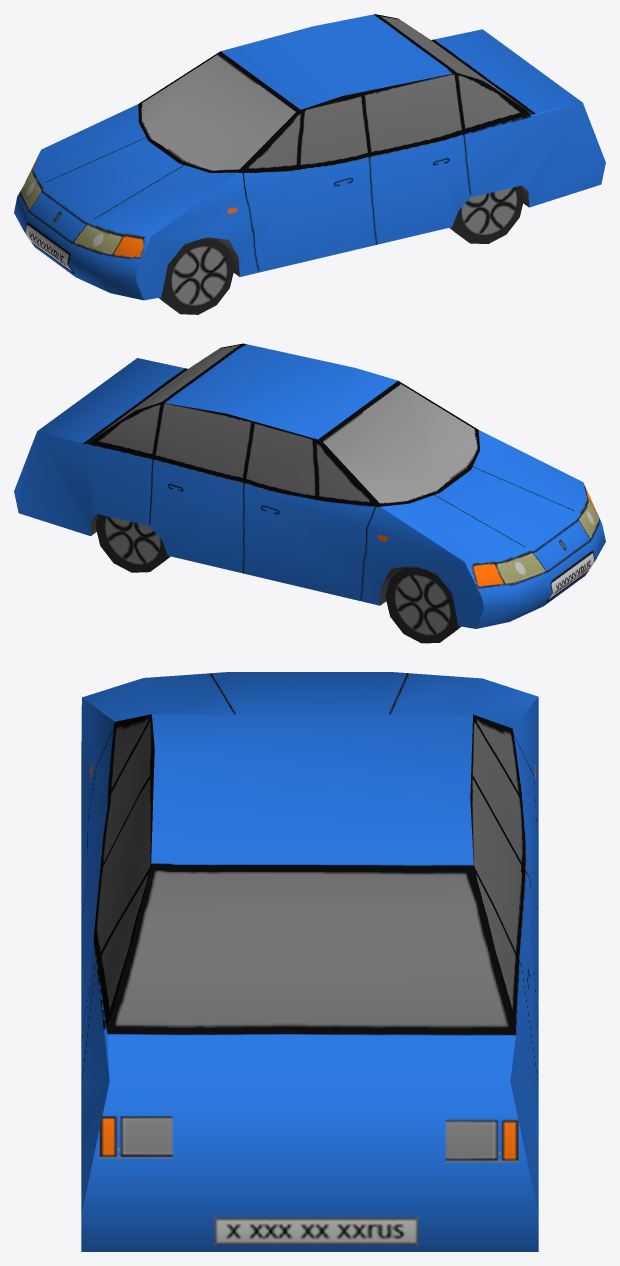
3 renders of one model, top to bottom at view 1: azimuth 30°, elevation 25°; view 2: azimuth 150°, elevation 25°; view 3: azimuth 270°, elevation 25°, orthographic. The views are drawn at different scales.
Parts seen in each view (by area): view 1: body; view 2: body; view 3: body.
Boxes of the visible parts, x1=… form: body: x1=14, y1=14, x2=605, y2=314; body: x1=14, y1=343, x2=605, y2=643; body: x1=81, y1=672, x2=538, y2=1251.
Size of the model in its own units: 133 by 42.94 by 52.55.
